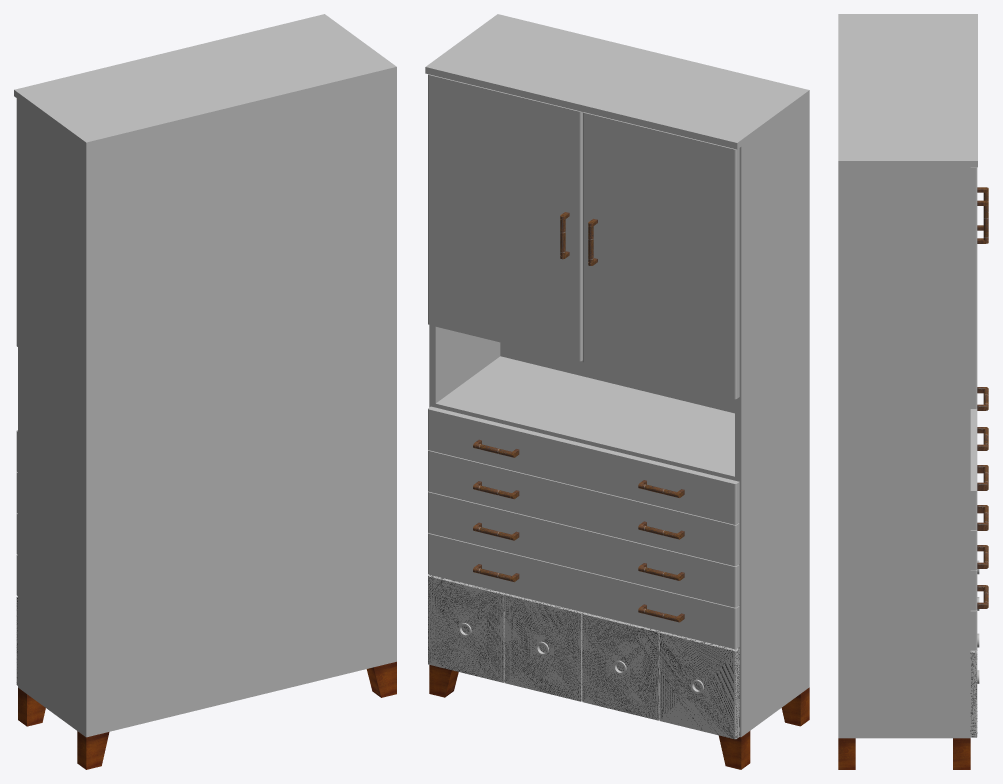
3 views of the same model, side by side, from view 1: azimuth 30°, elevation 25°; view 2: azimuth 150°, elevation 25°; view 3: azimuth 270°, elevation 25° (orthographic). The views are drawn at different scales.
Visible parts, largest first — view 1: mesh15_mesh15-geometry, mesh1_mesh1-geometry; view 2: mesh15_mesh15-geometry, mesh3_mesh3-geometry, mesh1_mesh1-geometry; view 3: mesh15_mesh15-geometry, mesh3_mesh3-geometry, mesh1_mesh1-geometry.
Boxes of the visible parts, <box> form: mesh15_mesh15-geometry: <box>14,14,396,737</box>; mesh1_mesh1-geometry: <box>18,661,396,769</box>; mesh15_mesh15-geometry: <box>425,14,809,739</box>; mesh3_mesh3-geometry: <box>473,212,684,622</box>; mesh1_mesh1-geometry: <box>429,665,809,769</box>; mesh15_mesh15-geometry: <box>838,14,979,738</box>; mesh3_mesh3-geometry: <box>977,187,988,608</box>; mesh1_mesh1-geometry: <box>838,738,970,769</box>.
Size of the model in its own units: 0.4512 by 0.8708 by 0.1951.
